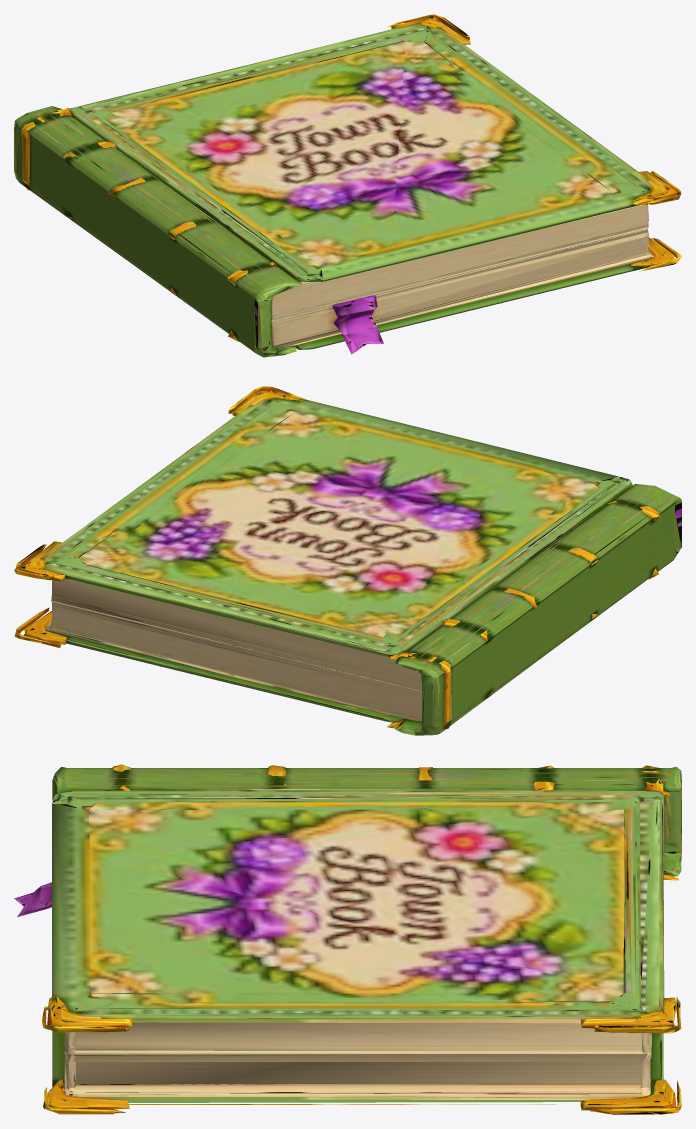
The model's file is townbook.glb.
The picture shows the model from 3 angles, top to bottom: view 1: azimuth 30°, elevation 25°; view 2: azimuth 150°, elevation 25°; view 3: azimuth 270°, elevation 25°; orthographic projection. The views are drawn at different scales.
Visible parts, largest first — view 1: world; view 2: world; view 3: world.
Part boxes in pixels (x1,y1,x2,y2): world: (14, 14, 681, 357); world: (14, 386, 681, 735); world: (14, 764, 681, 1114).
Bounding box in the file's own units: 0.8984 × 0.1429 × 0.9463.
Materials: 1 (1 with a texture image).
